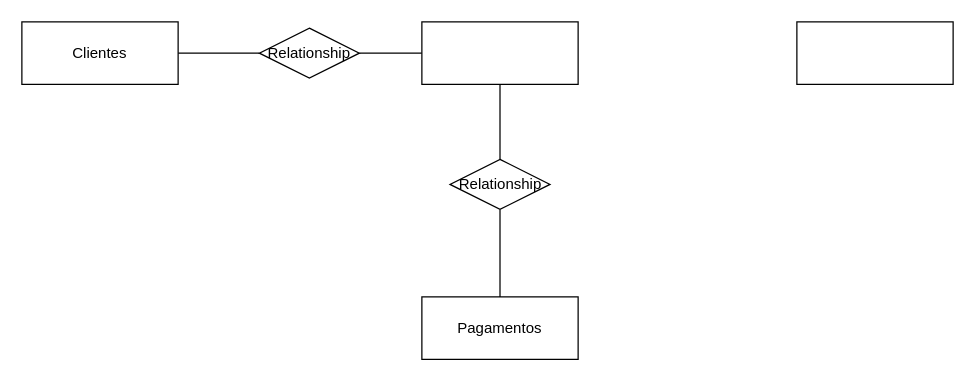
This 975x381 diagram has some shape labels left out. The shapes that lost their labels are listed below. From the top down, each one's centre as x and y in pixels, then its label:
At point 499,52: "Pedidos".
At point 874,52: "Produtos".
